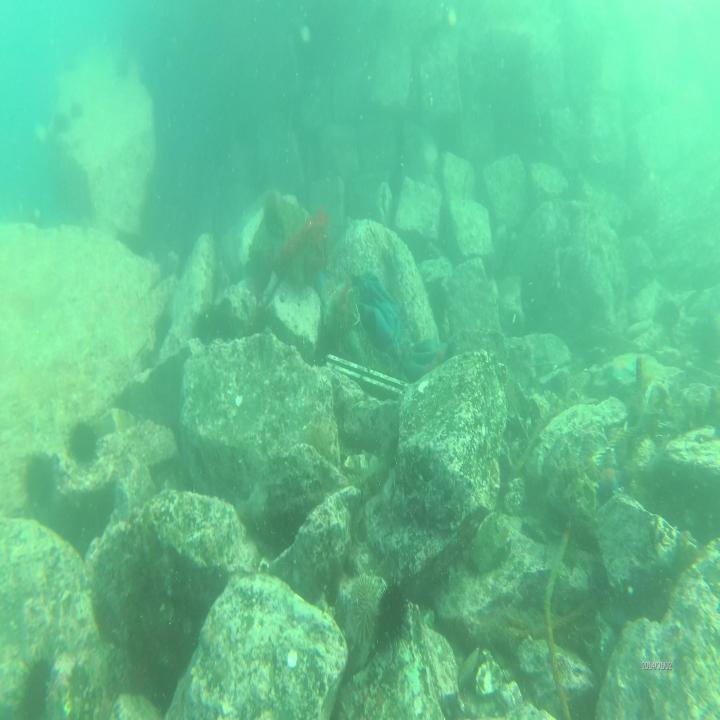echinus: (376, 575, 410, 648), (346, 567, 380, 636), (25, 448, 54, 505), (63, 414, 96, 464)
starfish: (592, 448, 625, 500), (604, 349, 640, 379)
